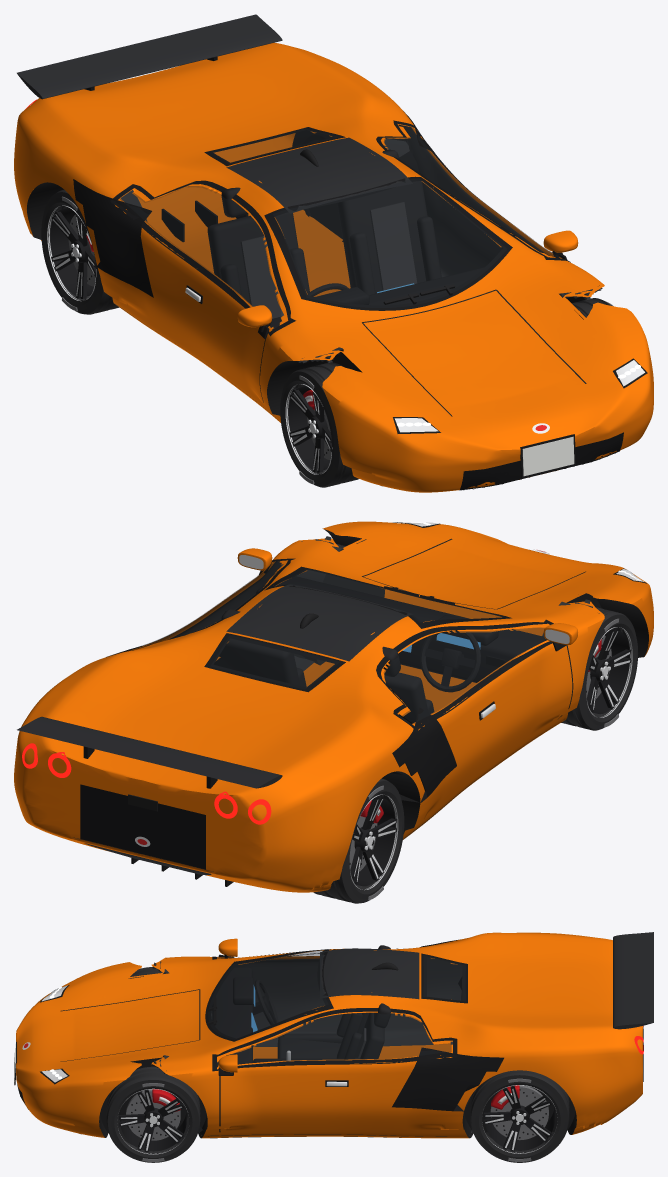
File: regera.glb
The picture shows the model from 3 angles, top to bottom: view 1: azimuth 30°, elevation 25°; view 2: azimuth 150°, elevation 25°; view 3: azimuth 270°, elevation 25°; orthographic projection. The views are drawn at different scales.
Parts seen in each view (by area): view 1: Body, Wheel_FR, Wheel_RR; view 2: Body, Wheel_RR, Wheel_FR; view 3: Body, Wheel_RL, Wheel_FL.
Part boxes in pixels (<box>): Body: <box>14,14,653,492</box>; Wheel_FR: <box>280,362,358,487</box>; Wheel_RR: <box>41,189,119,314</box>; Body: <box>14,521,653,892</box>; Wheel_RR: <box>313,778,404,903</box>; Wheel_FR: <box>561,607,638,730</box>; Body: <box>14,932,653,1138</box>; Wheel_RL: <box>470,1070,569,1162</box>; Wheel_FL: <box>106,1066,200,1162</box>.
Bounding box in the file's own units: 2.18 × 1.16 × 4.65.
